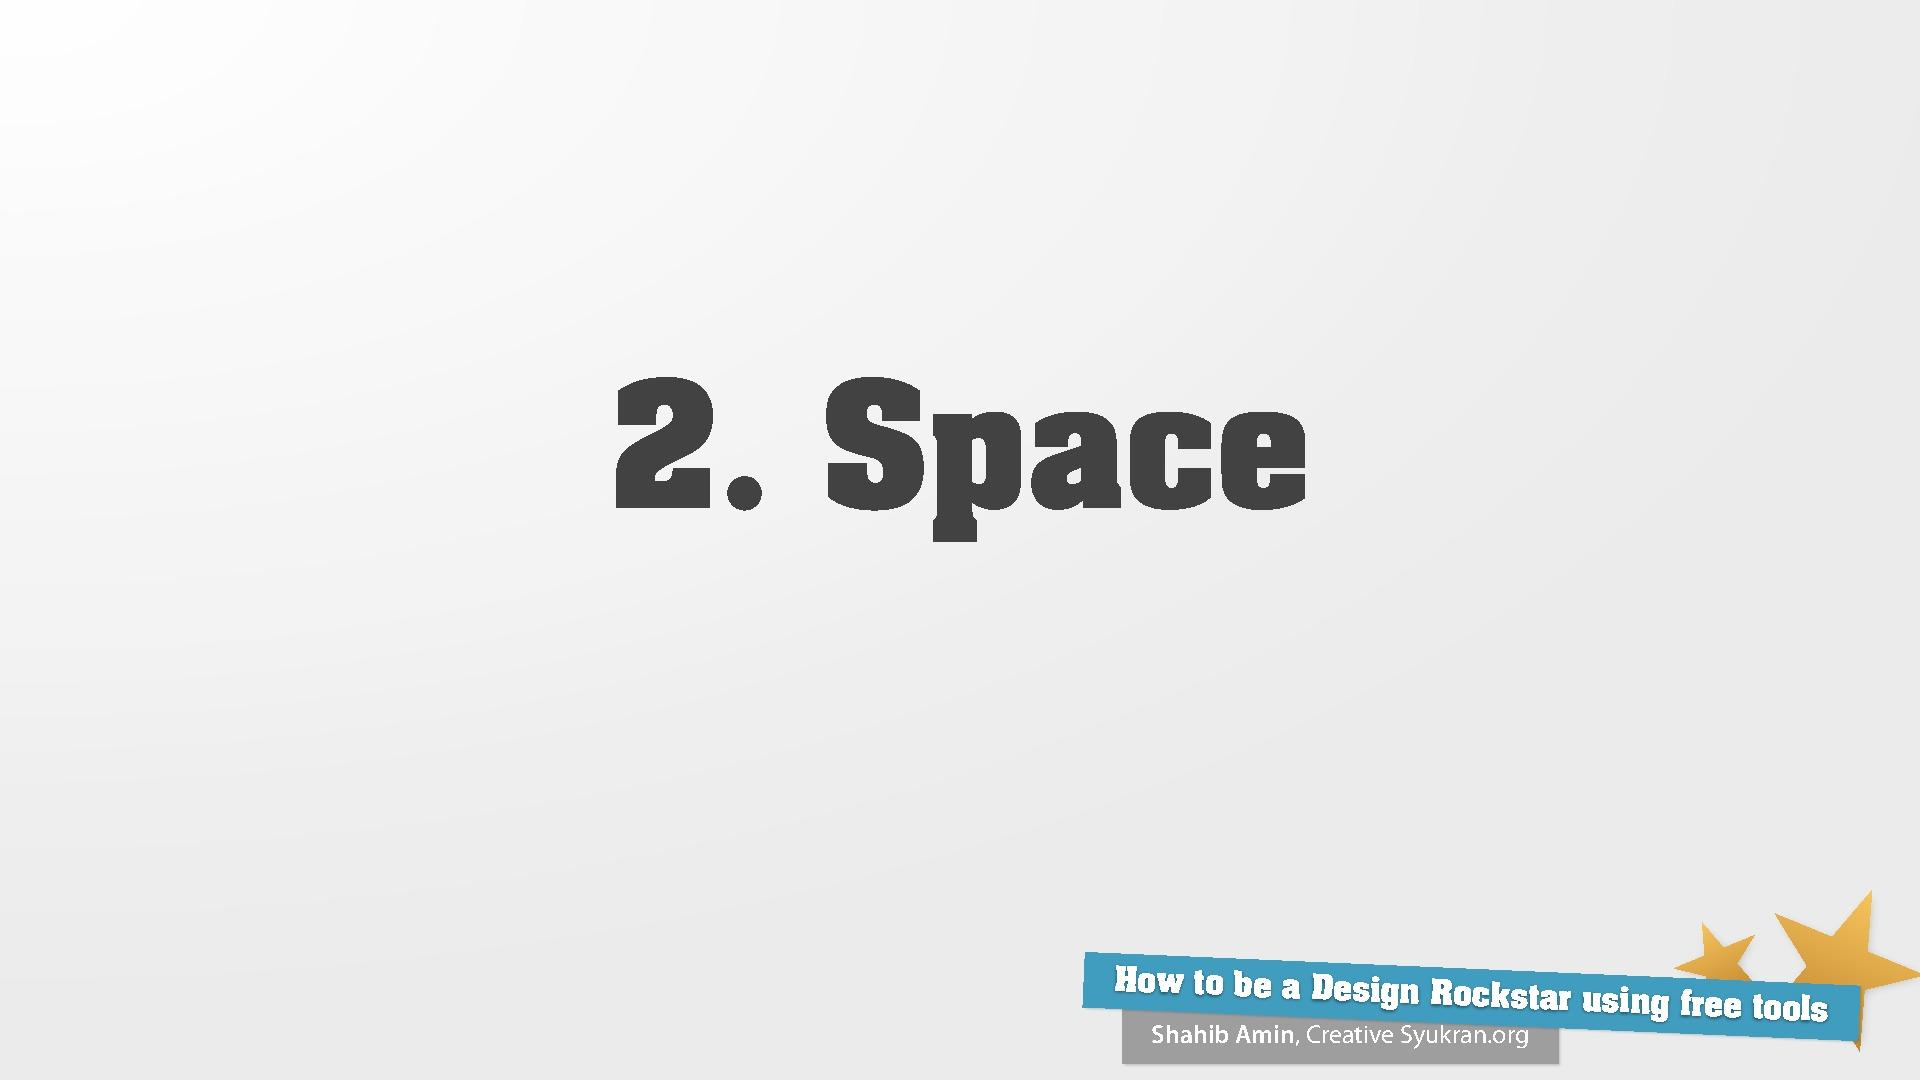subtitle: (1069, 884, 1888, 1080)
title: (558, 315, 1395, 575)
